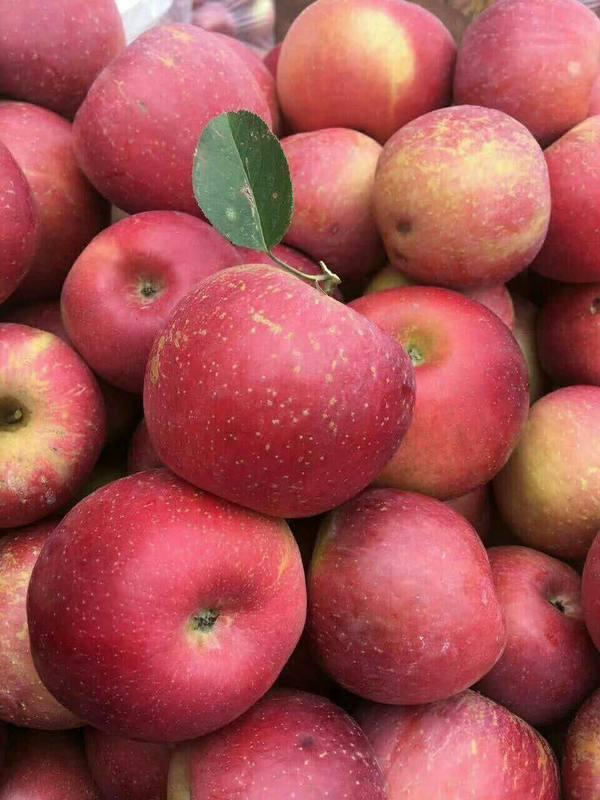apple: (267, 1, 591, 286), (26, 463, 309, 735), (144, 258, 426, 528), (302, 484, 513, 698), (75, 25, 287, 223), (56, 209, 273, 397), (343, 284, 528, 501), (368, 101, 551, 294), (271, 1, 452, 139), (172, 686, 384, 799), (476, 543, 595, 730), (357, 690, 559, 797), (1, 103, 108, 305), (449, 1, 599, 144), (1, 322, 105, 526), (490, 385, 600, 560), (274, 124, 383, 291), (1, 1, 125, 118)
